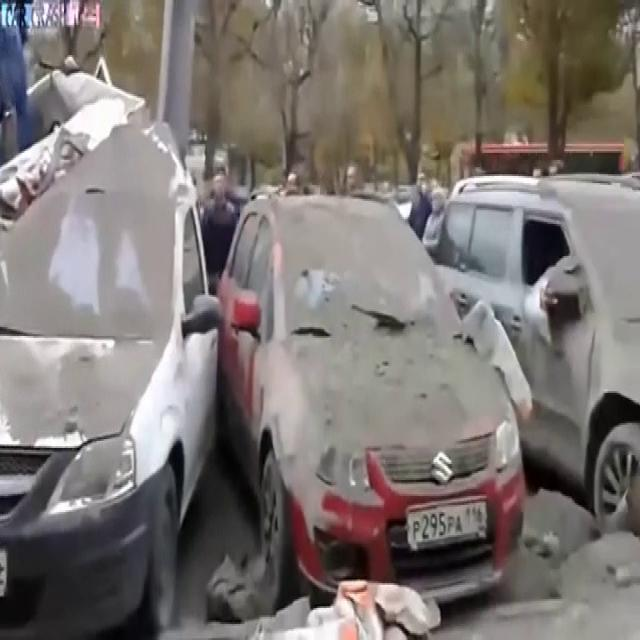accident: (0, 64, 212, 414)
